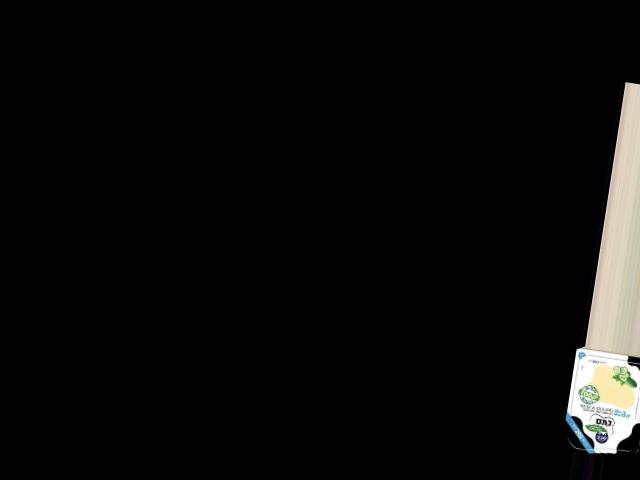cheese: (556, 343, 640, 459)
